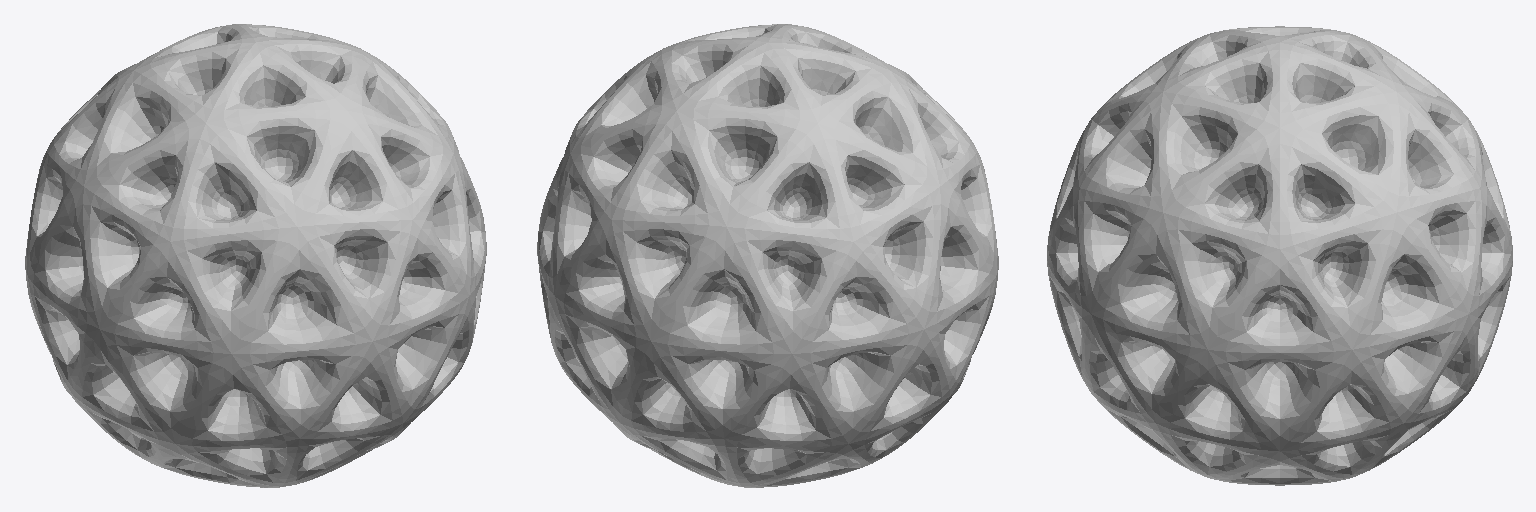
The model's file is backpack.obj.
3 views of the same model, side by side, from view 1: azimuth 30°, elevation 25°; view 2: azimuth 150°, elevation 25°; view 3: azimuth 270°, elevation 25° (orthographic).
Parts seen in each view (by area): view 1: Icosphere; view 2: Icosphere; view 3: Icosphere.
Part boxes in pixels (left/top/right/bottom): Icosphere: left=25, top=24, right=486, bottom=487; Icosphere: left=537, top=24, right=998, bottom=487; Icosphere: left=1047, top=26, right=1512, bottom=485.
Size of the model in its own units: 2.44 by 2.51 by 2.49.